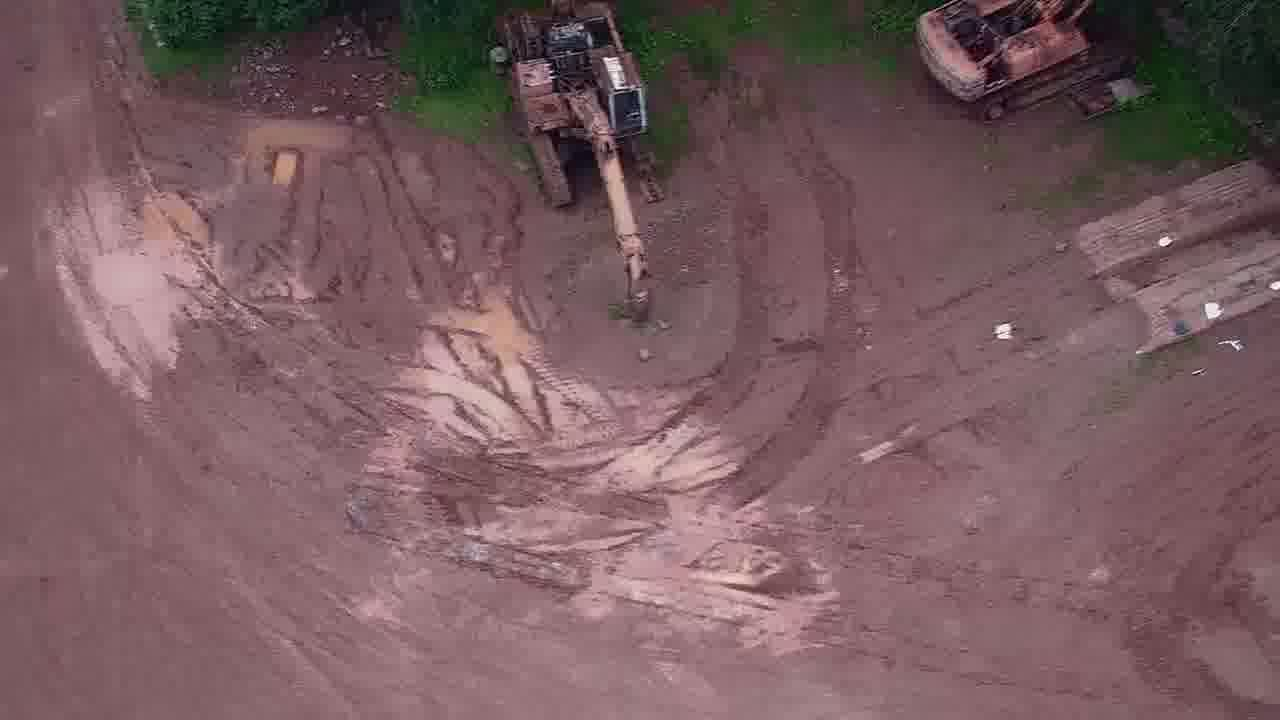HMV: (482, 1, 666, 311), (914, 1, 1141, 111)
